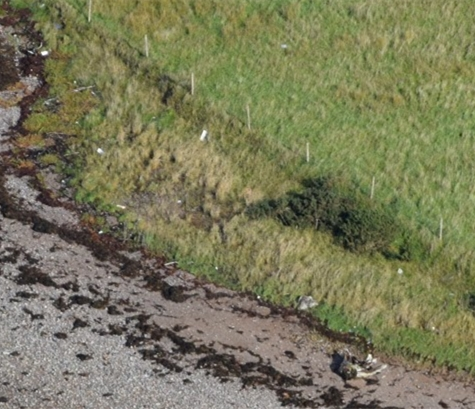scattered_barrel: (92, 123, 219, 215)
white_in_green: (312, 325, 399, 396), (24, 32, 70, 71)
